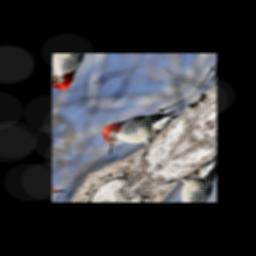Woodpecker: (89, 83, 195, 178)
